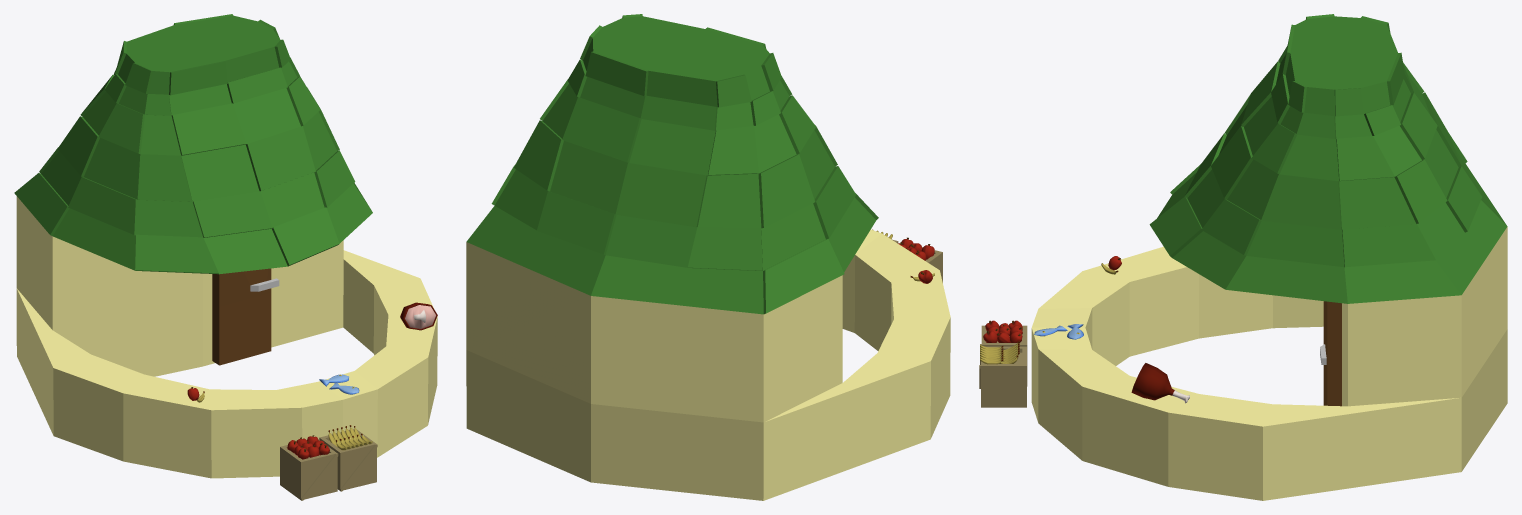
File: loja 2.fbx
3 views of the same model, side by side, from view 1: azimuth 30°, elevation 25°; view 2: azimuth 150°, elevation 25°; view 3: azimuth 270°, elevation 25° (orthographic). The views are drawn at different scales.
Visible parts, largest first — view 1: caixacommaças; view 2: caixacommaças; view 3: caixacommaças.
Boxes of the visible parts, box(x1,y1,x2,y2) form: caixacommaças: box(14, 14, 437, 500); caixacommaças: box(466, 14, 950, 500); caixacommaças: box(979, 14, 1507, 500).
Size of the model in its own units: 844 by 708 by 964.
